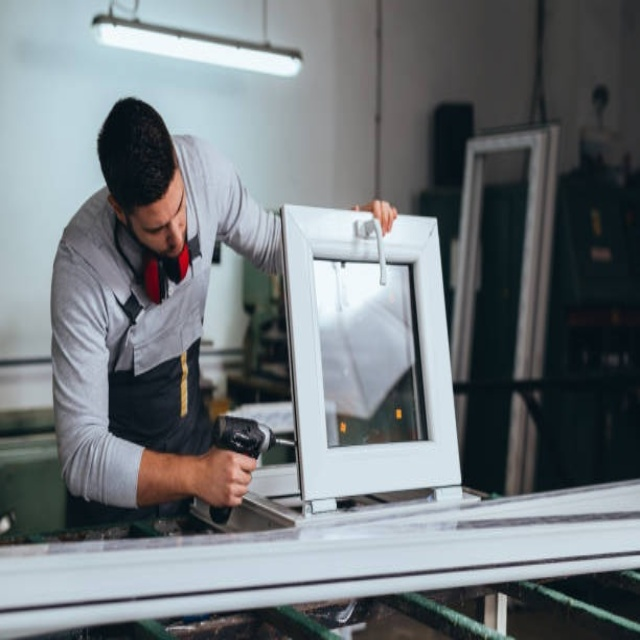Sin_gafas: (132, 181, 187, 236)
Sin_guantes: (198, 446, 259, 506), (353, 198, 398, 237)
Sin_mascara: (155, 227, 189, 257)
